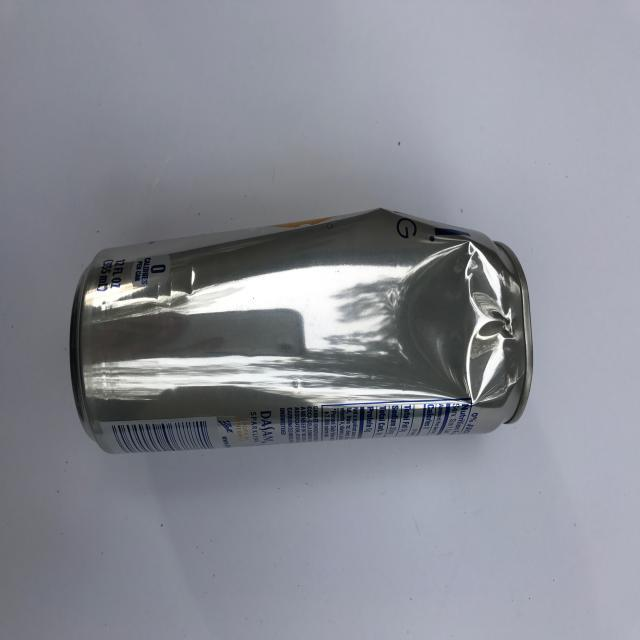metal: (69, 206, 532, 457)
